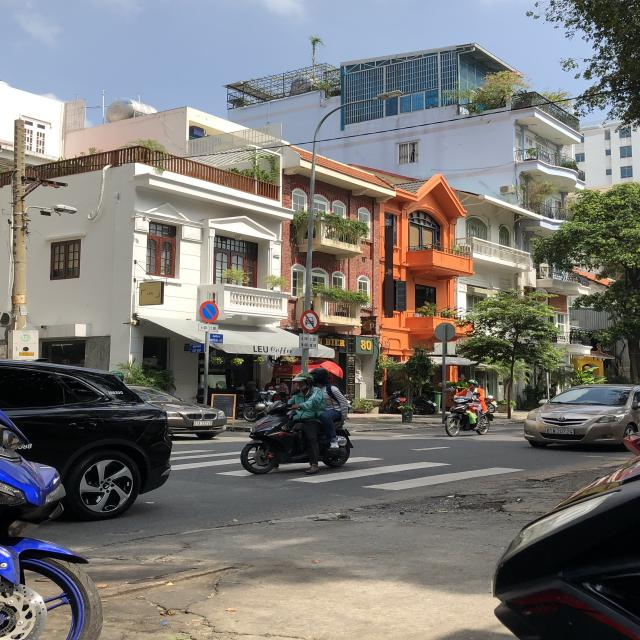Bien bao cam do xe: (197, 299, 221, 325)
Bien bao cam xe oto: (301, 308, 323, 334)
